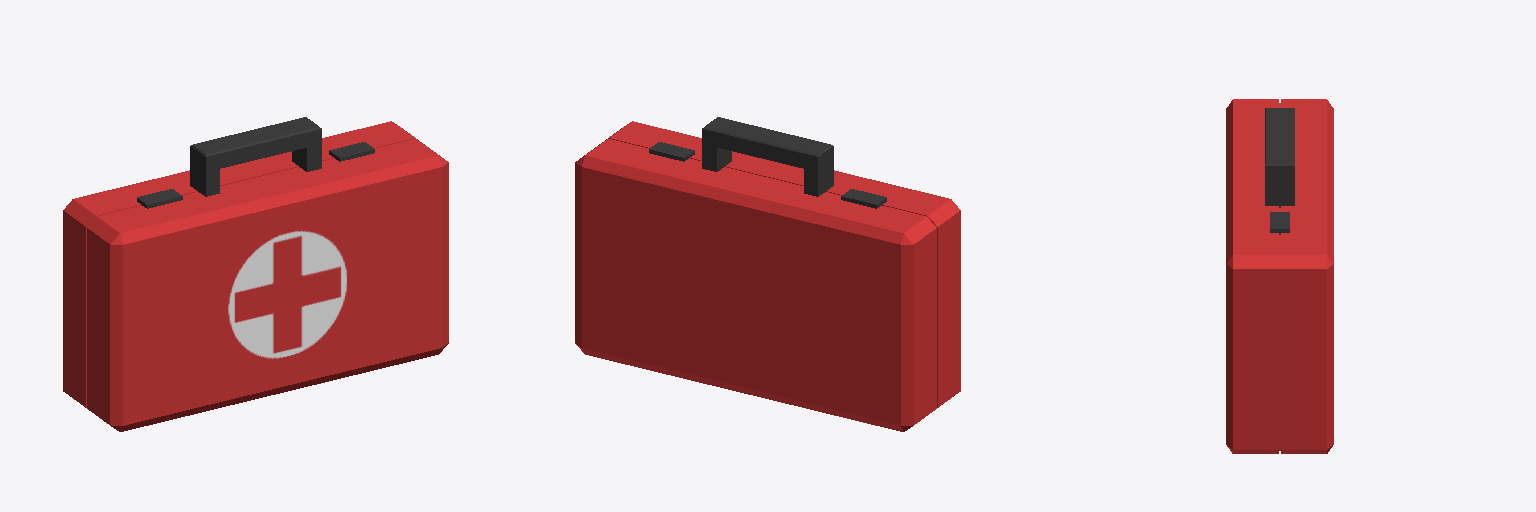
3 views of the same model, side by side, from view 1: azimuth 30°, elevation 25°; view 2: azimuth 150°, elevation 25°; view 3: azimuth 270°, elevation 25° (orthographic).
Visible parts, largest first — view 1: Box001_default, Box004_default, Box002_default, Box003_default; view 2: Box001_default, Box004_default, Box002_default, Box003_default; view 3: Box001_default, Box004_default.
Part boxes in pixels (bbox=[...]): Box001_default: bbox=[63, 121, 448, 431]; Box004_default: bbox=[190, 117, 321, 196]; Box002_default: bbox=[329, 142, 374, 161]; Box003_default: bbox=[137, 189, 182, 208]; Box001_default: bbox=[575, 121, 960, 431]; Box004_default: bbox=[702, 117, 833, 196]; Box002_default: bbox=[649, 142, 694, 161]; Box003_default: bbox=[841, 189, 886, 208]; Box001_default: bbox=[1226, 99, 1333, 453]; Box004_default: bbox=[1265, 108, 1294, 207].
Bounding box in the file's own units: 34.61 × 23.51 × 9.49.
Materials: 1 (1 with a texture image).